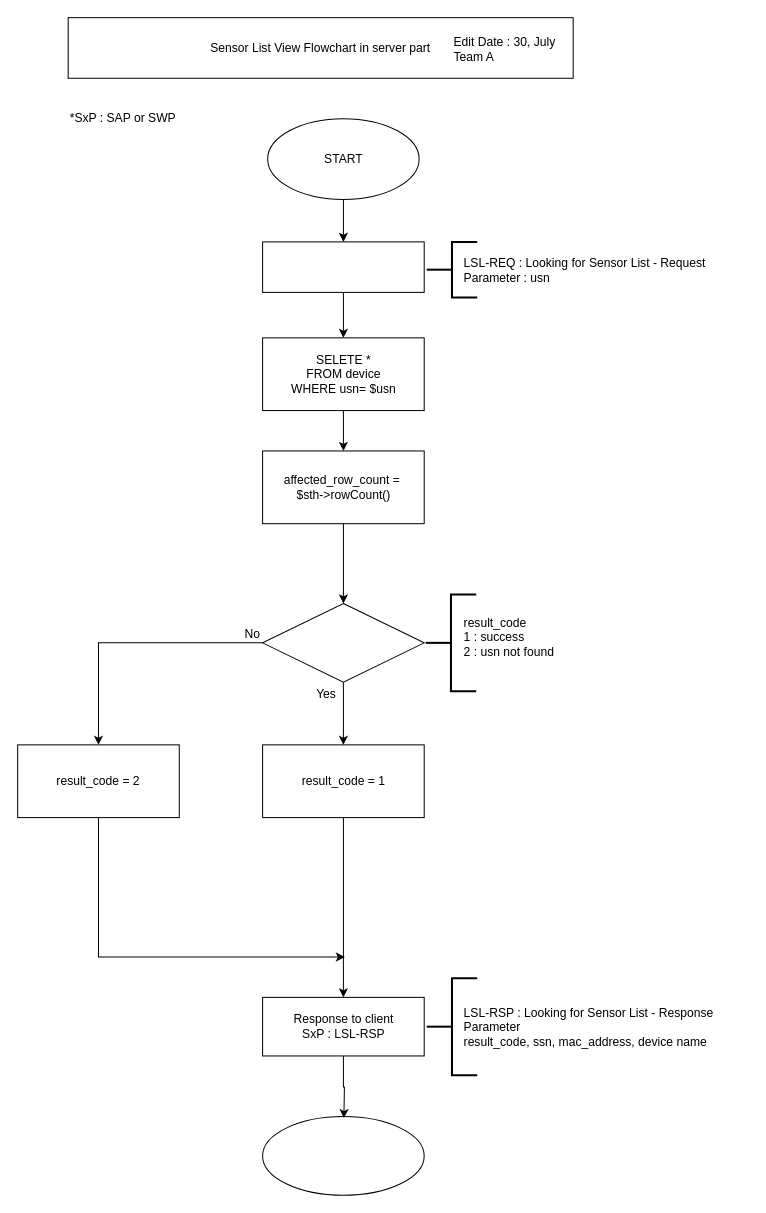
This 766x1213 diagram has some shape labels left out. Here are the shapes that lost their labels. From the top down, the centre of each, then its label:
point (343, 266): Receive request from client *SxP : LSL-REQ
point (343, 642): affected_row_count > 0
point (343, 1155): END
